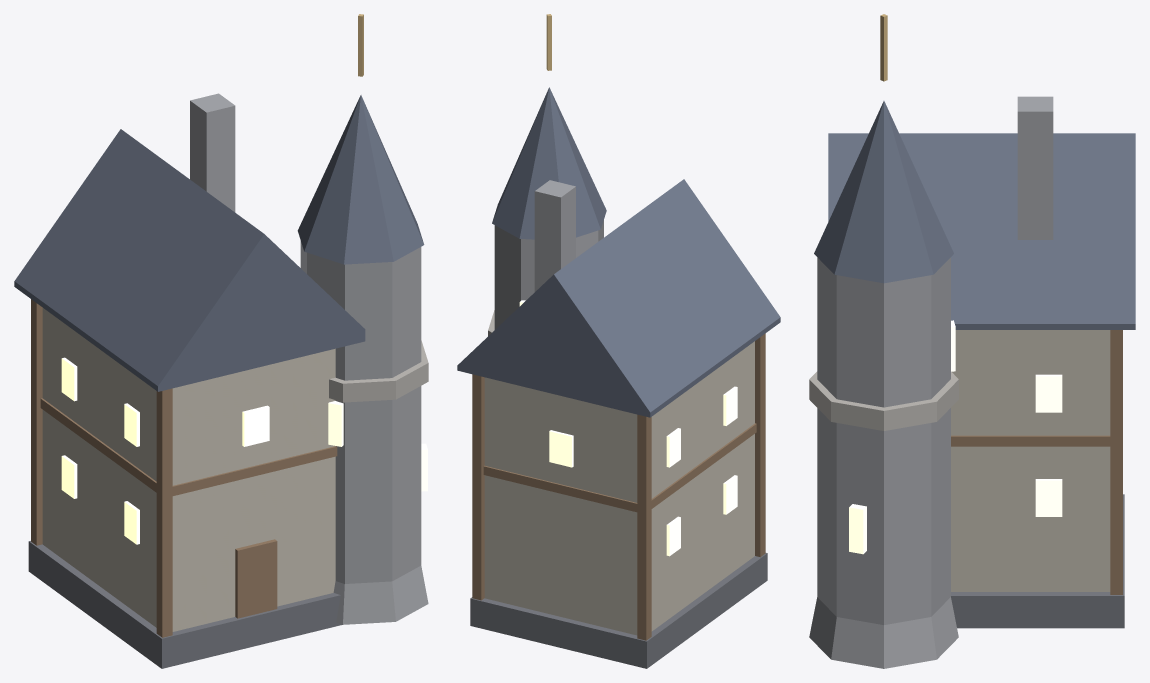
File: house_b.glb
3 views of the same model, side by side, from view 1: azimuth 30°, elevation 25°; view 2: azimuth 150°, elevation 25°; view 3: azimuth 270°, elevation 25° (orthographic). The views are drawn at different scales.
Parts seen in each view (by area): view 1: house_b; view 2: house_b; view 3: house_b.
Part boxes in pixels (x1,y1,x2,y2): house_b: (14, 14, 428, 668); house_b: (457, 14, 780, 668); house_b: (809, 14, 1135, 668).
Size of the model in its own units: 8.03 by 15.5 by 7.33.
